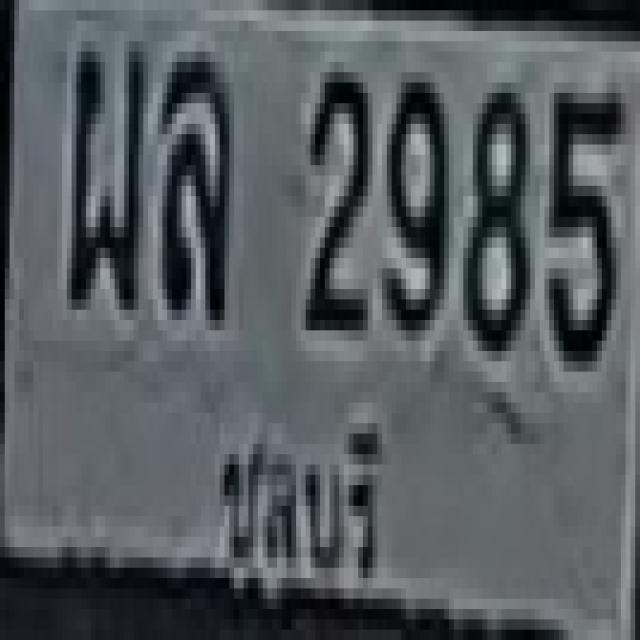-: (64, 42, 146, 300), (158, 41, 229, 310)
2: (301, 62, 368, 320)
5: (544, 83, 621, 361)
8: (464, 72, 526, 341)
9: (377, 67, 444, 325)
